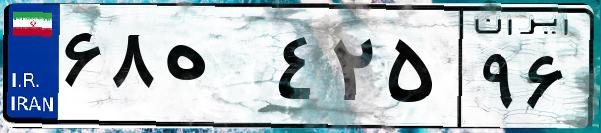2: (330, 28, 385, 110)
4: (270, 28, 330, 110)
5: (385, 28, 445, 110)
6: (57, 26, 110, 100), (525, 38, 570, 115)
8: (110, 28, 158, 98)
9: (475, 38, 525, 113)
ه: (158, 20, 270, 120)
